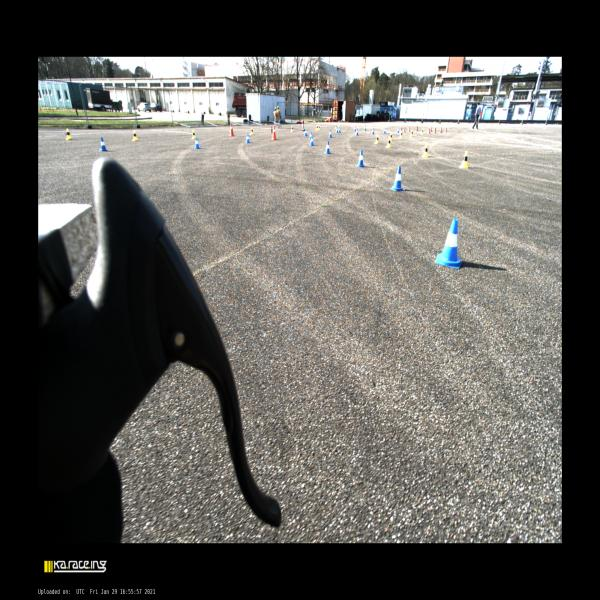blue_cone: (435, 218, 462, 269), (389, 165, 405, 191), (356, 149, 366, 167), (99, 136, 109, 152), (323, 140, 331, 154), (194, 137, 200, 149), (309, 135, 314, 146), (328, 129, 333, 138), (246, 133, 250, 143), (308, 131, 312, 140), (304, 128, 308, 136), (355, 128, 358, 136), (371, 127, 374, 135), (338, 126, 341, 133), (353, 125, 356, 132), (383, 127, 386, 133), (336, 126, 338, 133), (364, 124, 366, 131), (397, 127, 399, 132)
large_orange_cone: (228, 122, 235, 136), (270, 125, 276, 141)
orange_cone: (439, 127, 442, 133), (400, 127, 403, 132), (434, 127, 436, 134), (404, 126, 406, 132), (408, 126, 410, 132), (430, 126, 432, 132), (445, 127, 447, 133), (416, 126, 418, 131), (429, 128, 430, 134)
yellow_cone: (459, 150, 468, 169), (422, 144, 429, 157), (66, 128, 72, 140), (385, 137, 391, 148), (132, 130, 138, 140), (191, 130, 196, 139), (374, 135, 378, 144), (250, 127, 254, 135), (399, 131, 403, 138), (410, 129, 413, 137), (421, 128, 424, 135), (290, 125, 293, 132), (334, 124, 337, 129), (390, 133, 392, 140), (318, 124, 320, 130), (316, 125, 318, 130)
